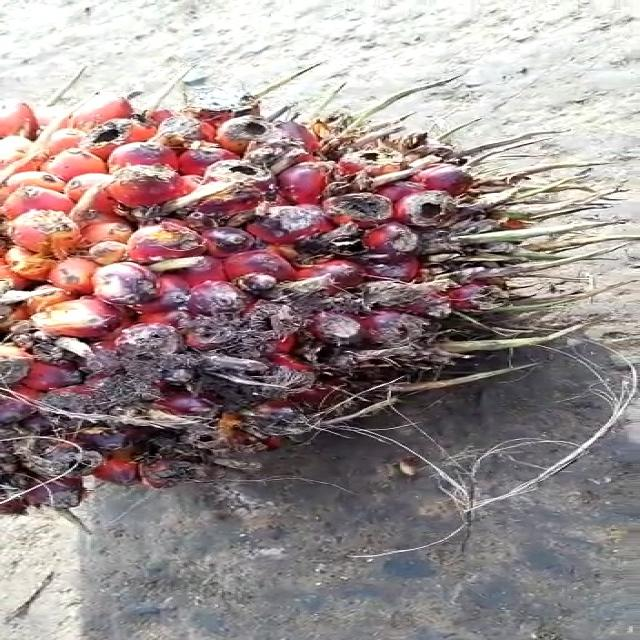palm oil: (0, 70, 566, 514)
